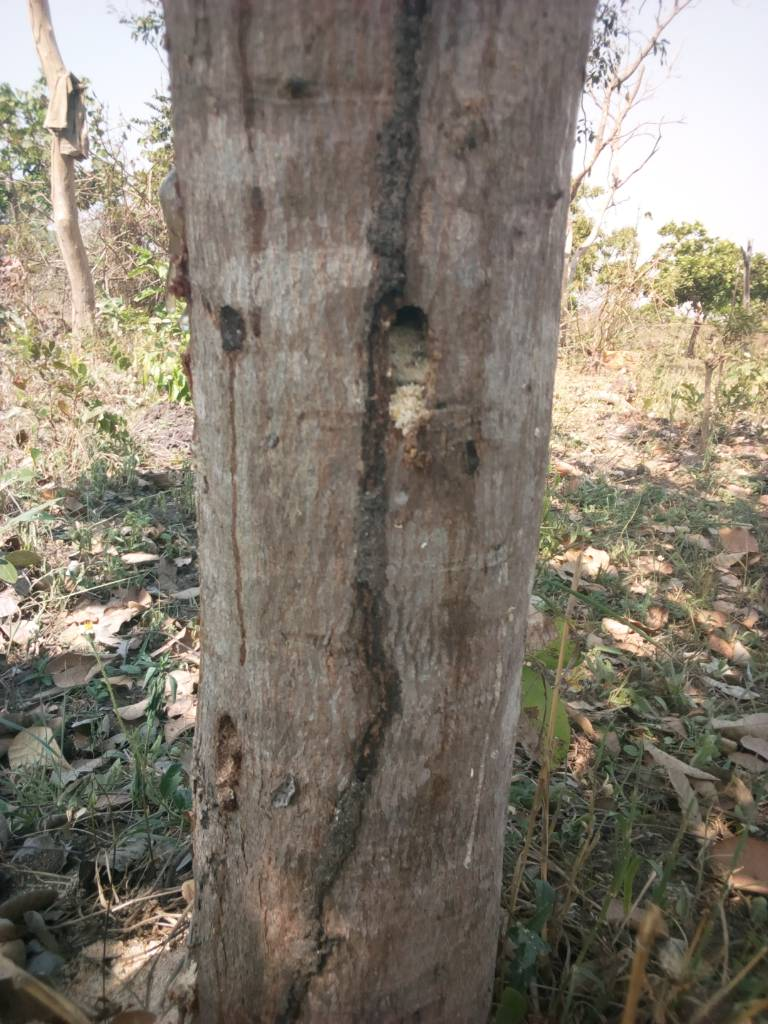Apate terebrans: (353, 285, 457, 413)
